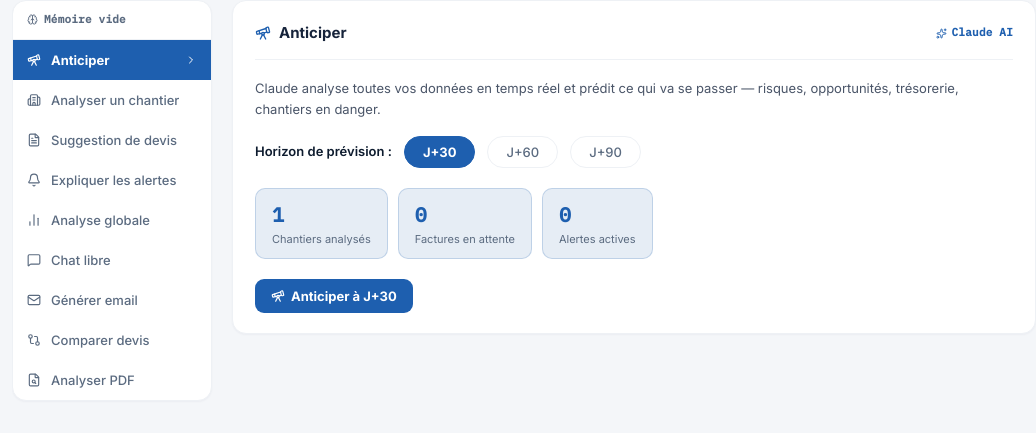
Test case: plafond HTTP › ClaudeIAPanel affiche le 429 et reste utilisable
The image size is (1036, 433).
Click the button "Anticiper à J+30".
click(334, 296)  # box top-left (255, 279), bottom-right (413, 313)
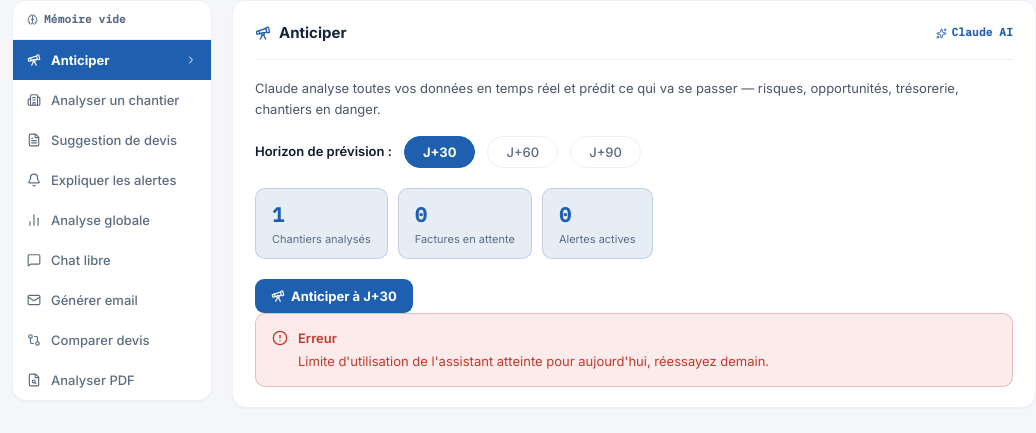
Expected: the text "Limite d'utilisation de l'assistant atteinte pour aujourd'hui, réessayez demain." is shown, top-left (298, 351), bottom-right (769, 372)
Click the button "Suggestion de devis".
click(112, 140)  # box top-left (13, 120), bottom-right (211, 160)
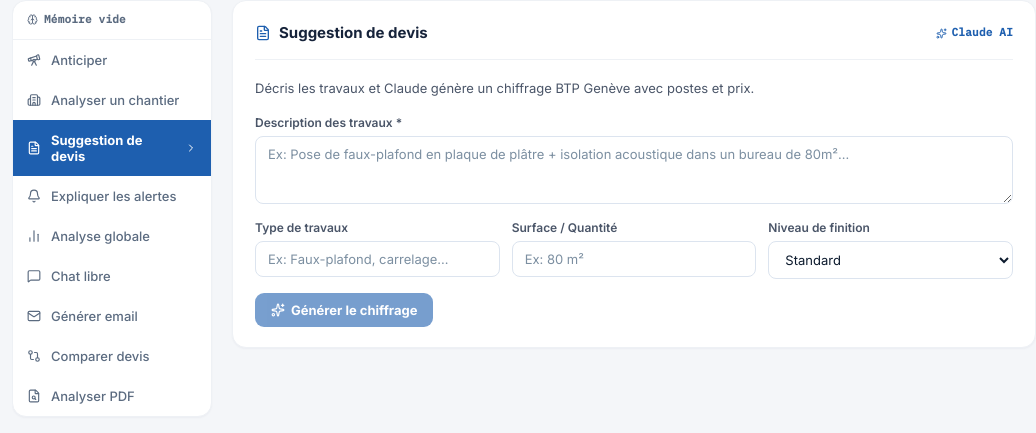
Expected: the text box with placeholder "Pose de faux-plafond" is enabled, top-left (255, 136), bottom-right (1013, 204)
